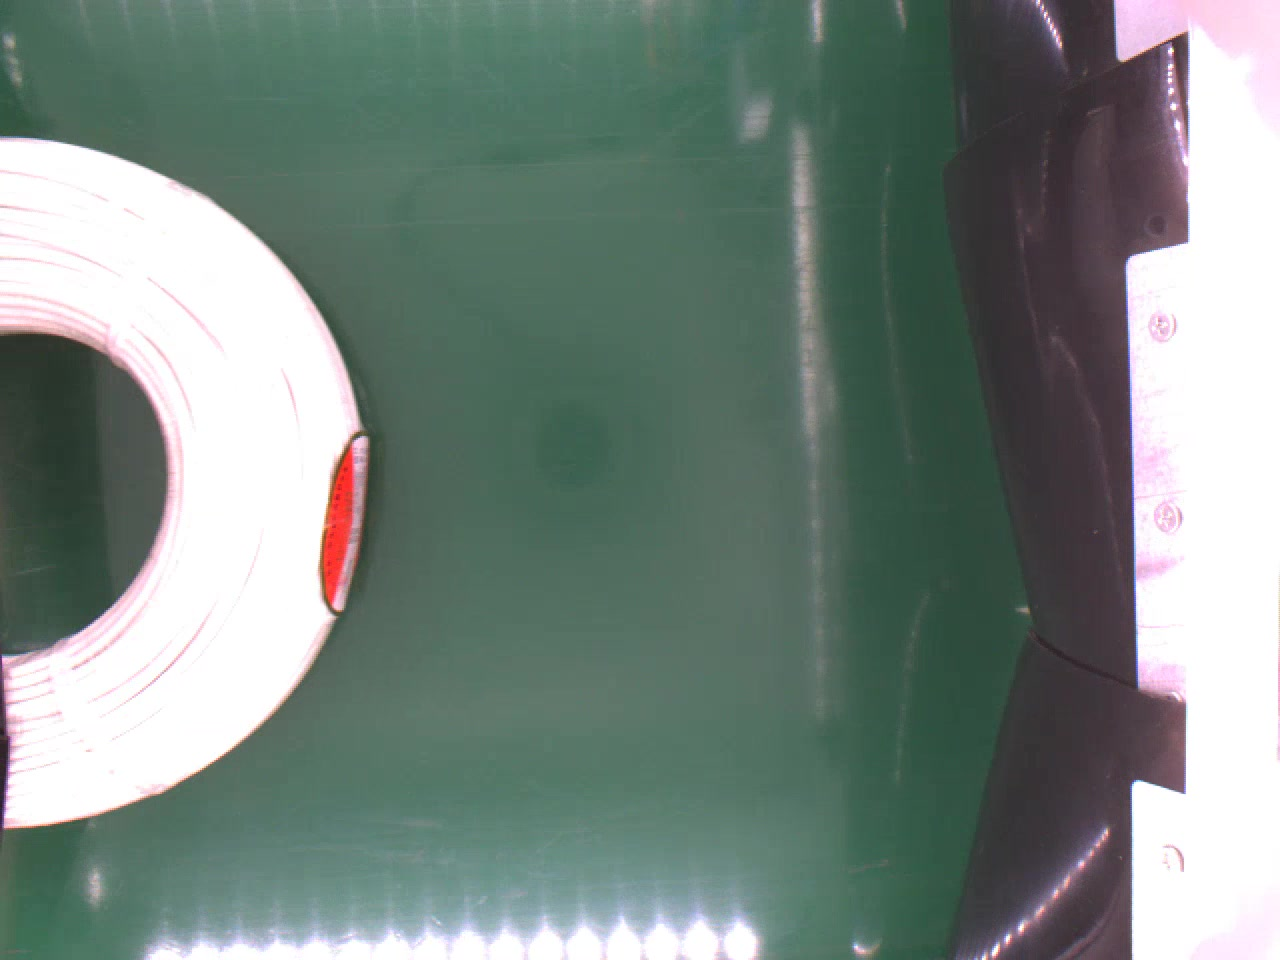white: (0, 136, 365, 834)
